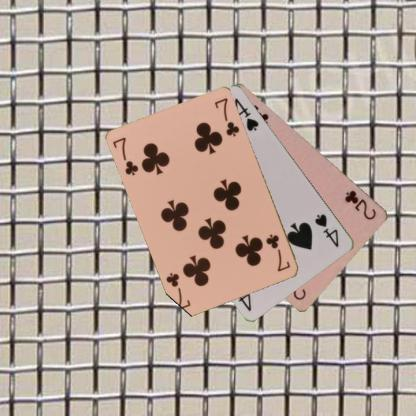2c: (342, 187, 378, 221)
4s: (312, 211, 341, 249)
7c: (110, 134, 140, 178), (263, 231, 292, 273)
